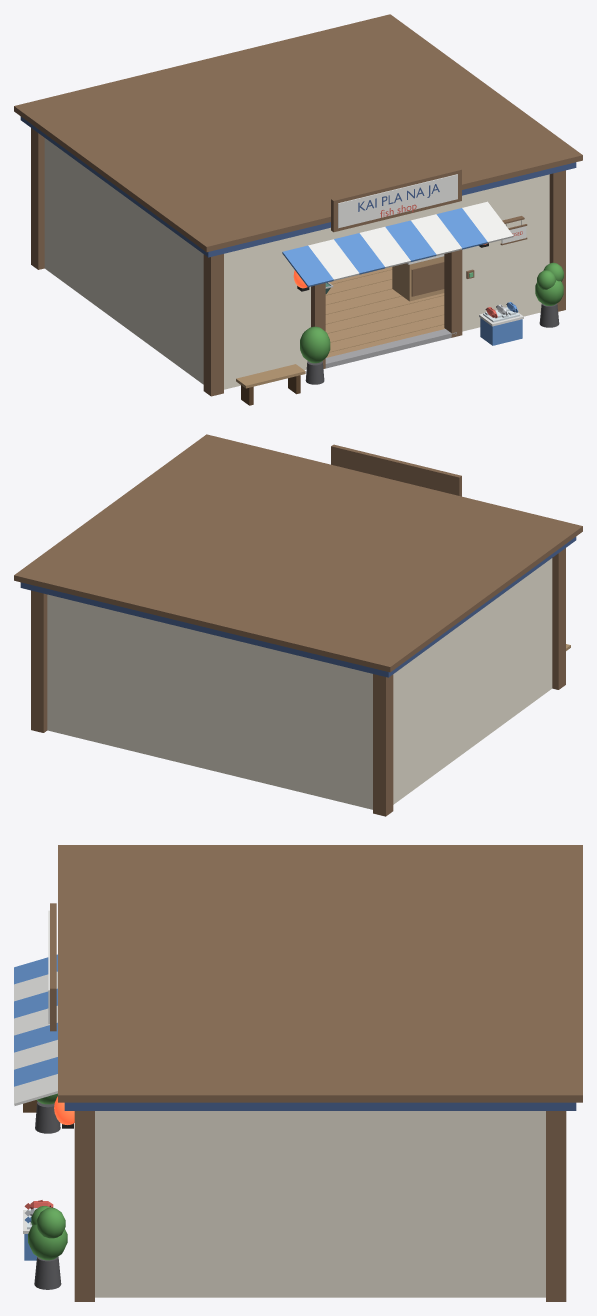
The model's file is house2_fish.fbx.
3 renders of one model, top to bottom at view 1: azimuth 30°, elevation 25°; view 2: azimuth 150°, elevation 25°; view 3: azimuth 270°, elevation 25°, orthographic. The views are drawn at different scales.
Parts seen in each view (by area): view 1: roof, wall.001, wall.003, wall.004, post, kansaad, floor, sign, counter.001, step, wall.005, namkang (+4 smaller); view 2: roof, wall, wall.001, post, sign; view 3: roof, wall.002, post, kansaad, sign, plant.005, plant.007, wall, wall.004, plant.004, plant.002.
Part boxes in pixels (x1,y1,x2,y2): roof: (14, 14, 582, 257); wall.001: (46, 139, 203, 384); wall.003: (224, 231, 316, 389); wall.004: (453, 174, 549, 331); post: (31, 128, 565, 396); kansaad: (282, 201, 513, 287); floor: (325, 267, 444, 357); sign: (331, 168, 461, 232); counter.001: (392, 254, 444, 301); step: (325, 329, 456, 368); wall.005: (316, 203, 453, 243); namkang: (479, 312, 523, 345); roof: (14, 434, 582, 677); wall: (47, 594, 372, 809); wall.001: (393, 559, 550, 804); post: (31, 548, 565, 816); sign: (331, 444, 461, 496); roof: (58, 845, 582, 1110); wall.002: (98, 1111, 542, 1297); post: (74, 1111, 566, 1301); kansaad: (14, 954, 57, 1105); sign: (48, 903, 56, 1031); plant.005: (28, 1224, 67, 1260); plant.007: (34, 1256, 61, 1289); wall: (542, 1111, 545, 1297); wall.004: (95, 1111, 98, 1297); plant.004: (36, 1207, 65, 1238); plant.002: (35, 1101, 60, 1133).
Size of the model in its own units: 8.8 by 3.9 by 8.45.
